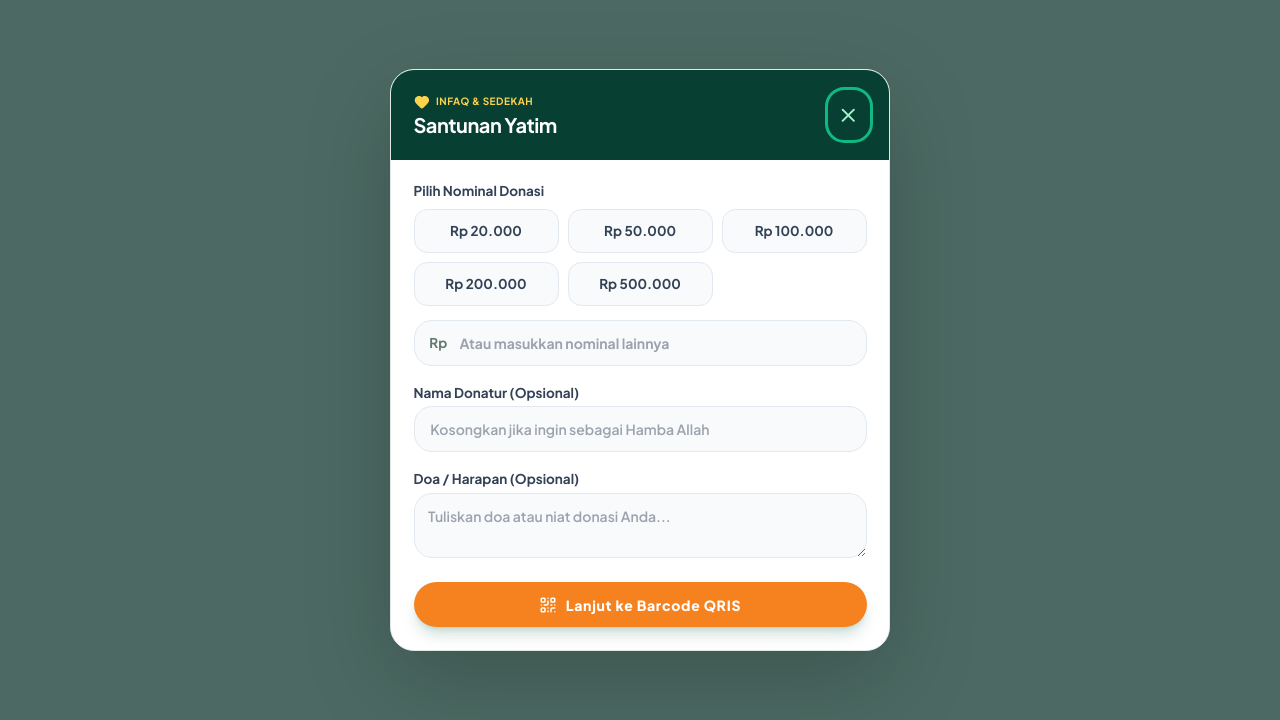
Test: nominal di bawah batas tidak mencatat transaksi
In the number field labelled "Pilih Nominal Donasi": (640, 343) [414, 320, 866, 366], type "5000"
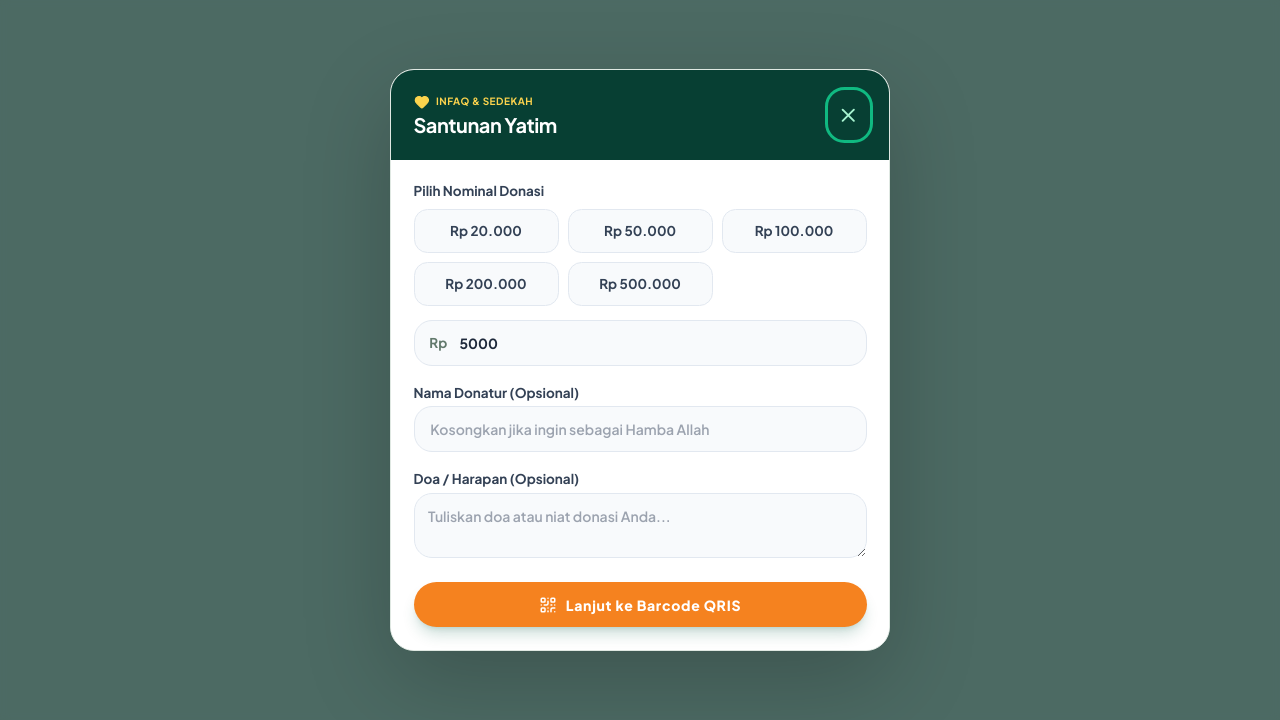
Click the button "Lanjut ke Barcode QRIS": (640, 605) [414, 582, 866, 627]
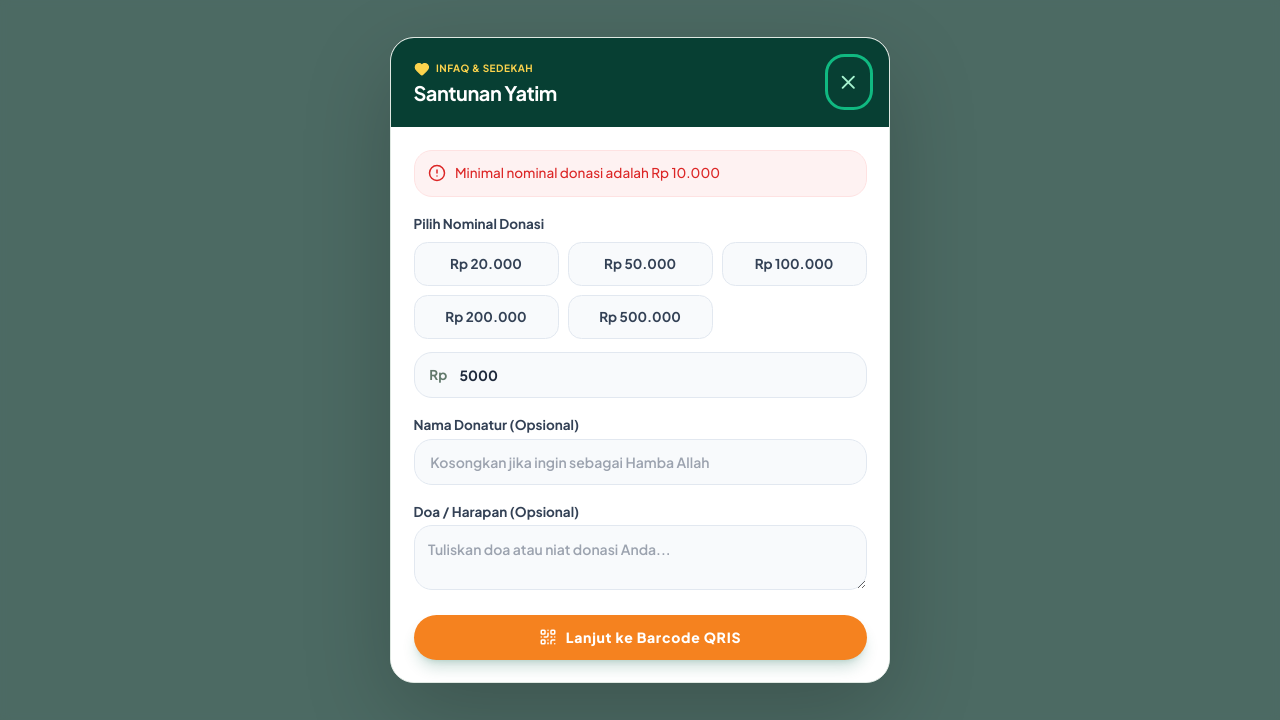
Now the message shows "Minimal nominal", box [455, 164, 720, 181]
